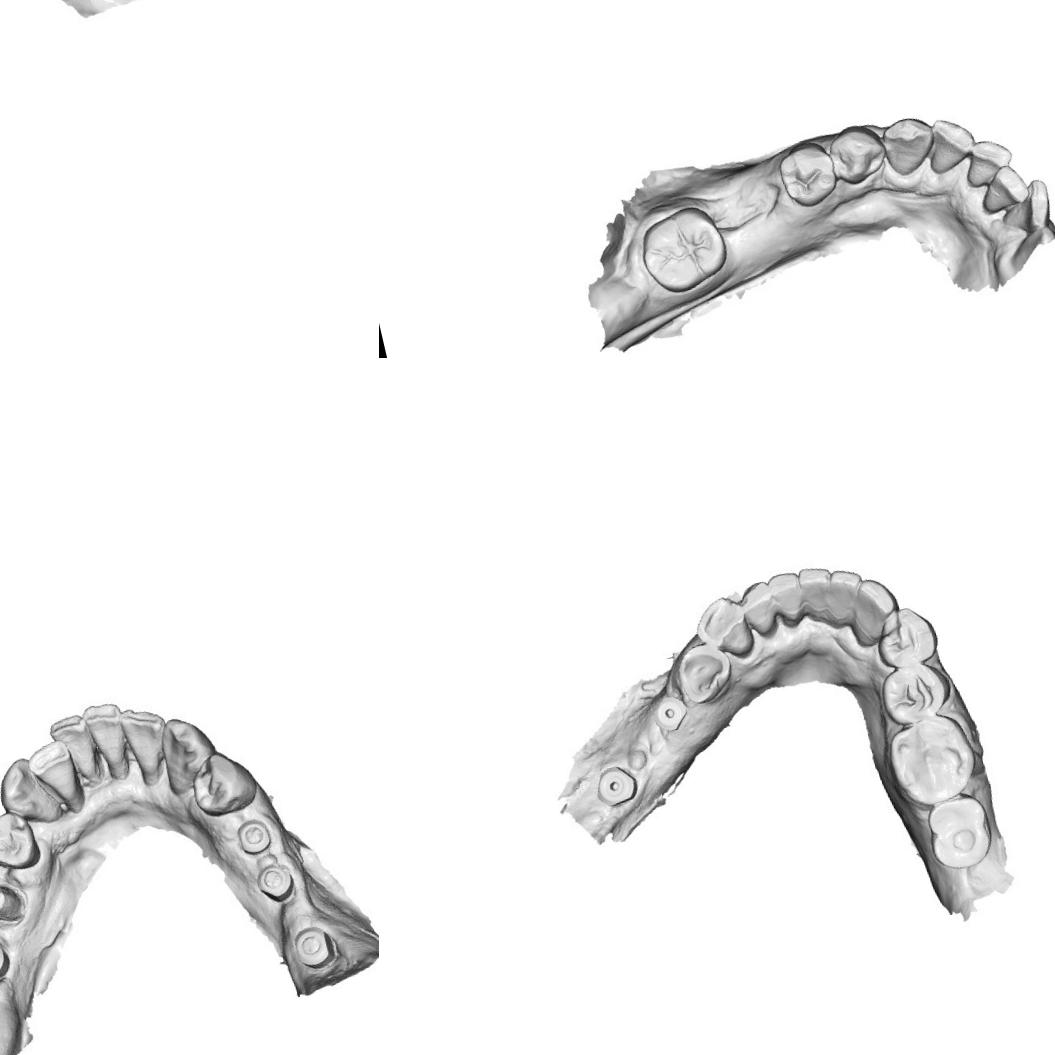canine: (158, 710, 222, 798), (696, 591, 758, 668), (877, 111, 942, 182), (0, 755, 58, 824), (844, 581, 896, 645)
crown: (0, 871, 31, 936)
implant: (286, 920, 340, 970), (250, 856, 300, 908), (228, 813, 280, 862), (597, 764, 638, 804), (650, 694, 688, 736), (0, 937, 15, 987)
incisor: (119, 701, 176, 790), (82, 701, 136, 780), (31, 740, 86, 814), (990, 179, 1055, 241), (50, 711, 102, 787), (955, 132, 1016, 190), (920, 112, 978, 172), (972, 164, 1030, 220), (821, 564, 866, 633), (794, 560, 838, 628), (736, 576, 780, 635), (765, 565, 806, 625)
molar: (631, 200, 734, 299), (885, 713, 979, 808), (920, 786, 1000, 878)
premolar: (873, 655, 955, 730), (184, 746, 264, 818), (770, 136, 842, 214), (867, 603, 941, 675), (822, 117, 892, 188), (676, 640, 735, 705), (0, 809, 44, 874)
